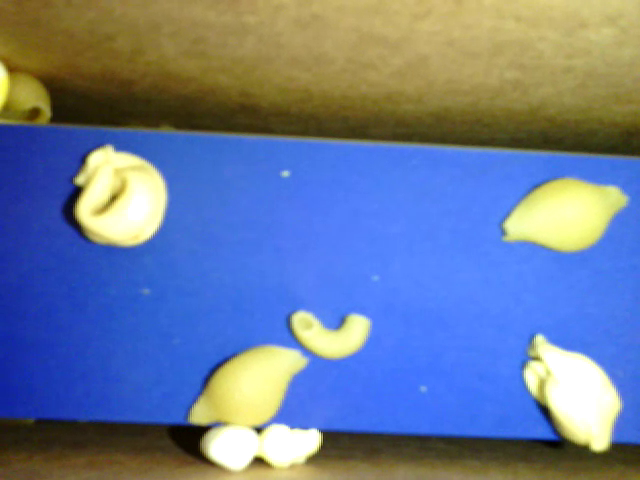elbow: (291, 309, 375, 362)
shell: (182, 342, 312, 431), (499, 177, 632, 252), (3, 72, 55, 130)
tortellini: (522, 329, 624, 454), (70, 145, 174, 249)
